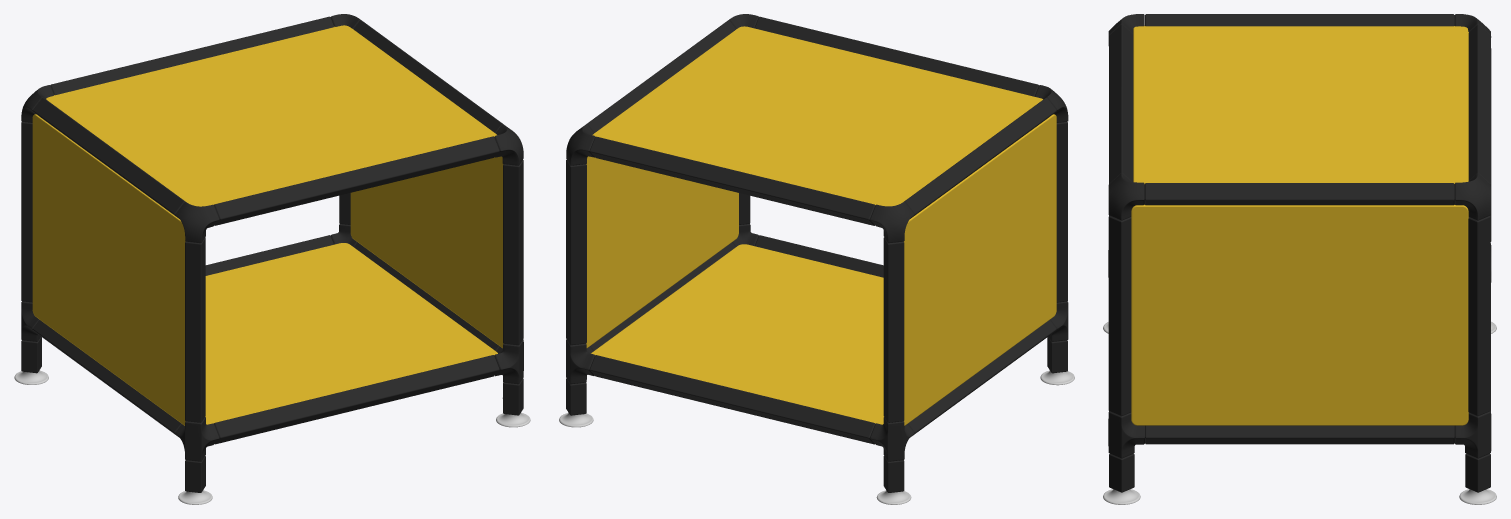
3 renders of one model, left to right at view 1: azimuth 30°, elevation 25°; view 2: azimuth 150°, elevation 25°; view 3: azimuth 270°, elevation 25°, orthographic. The views are drawn at different scales.
Visible parts, largest first — view 1: 374x329x229; view 2: 374x329x229; view 3: 374x329x229.
Boxes of the visible parts, bbox=[...] form: 374x329x229: bbox=[14, 14, 530, 504]; 374x329x229: bbox=[559, 14, 1074, 504]; 374x329x229: bbox=[1103, 14, 1496, 504].
Bounding box in the file's own units: 0.4639 × 0.3683 × 0.4182.
